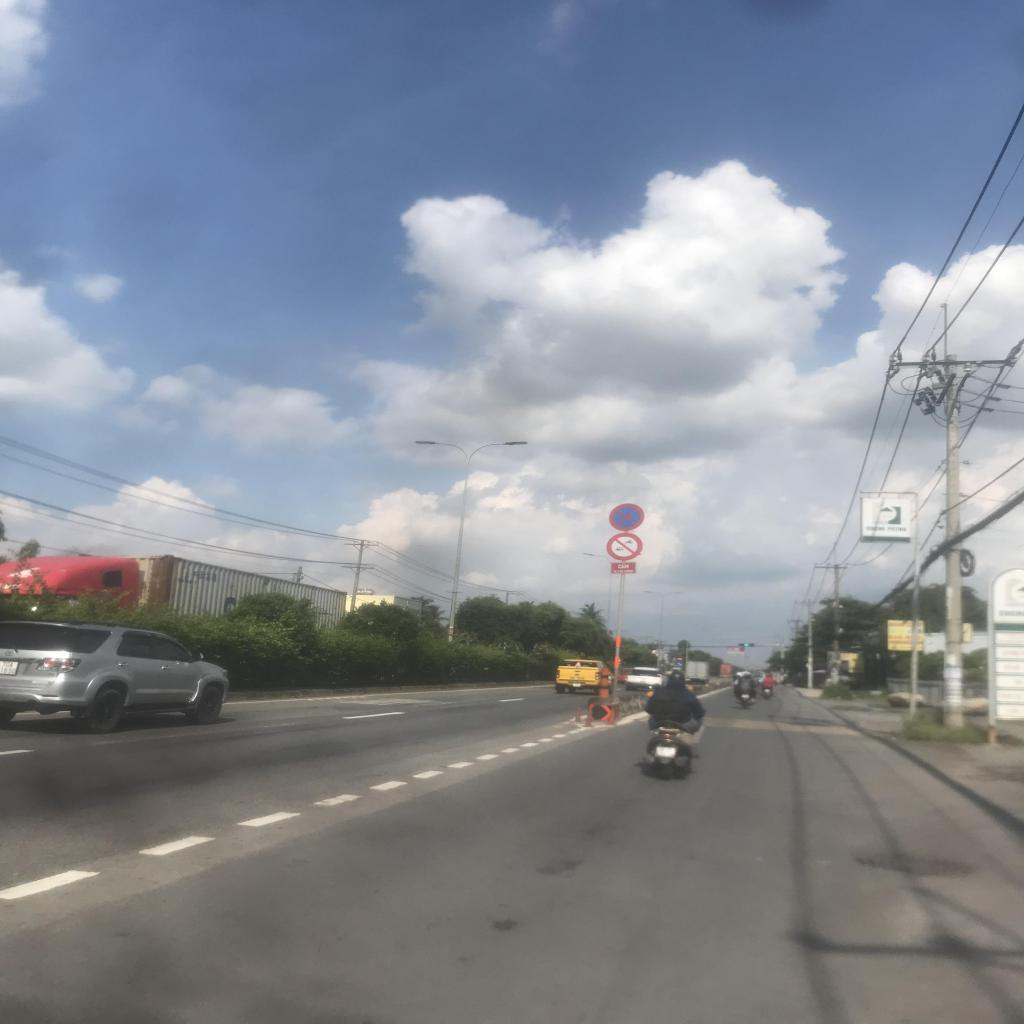cam_dung_xe_va_do_xe: (609, 504, 645, 530)
cam_xe_2_banh_va_xe_3_banh_co_dong_co: (606, 532, 642, 561)
cam_xe_di_nguoc_chieu: (677, 657, 683, 661)
huong_phai_di_vuot_chuong_ngai_vat_phai: (676, 661, 683, 667)
